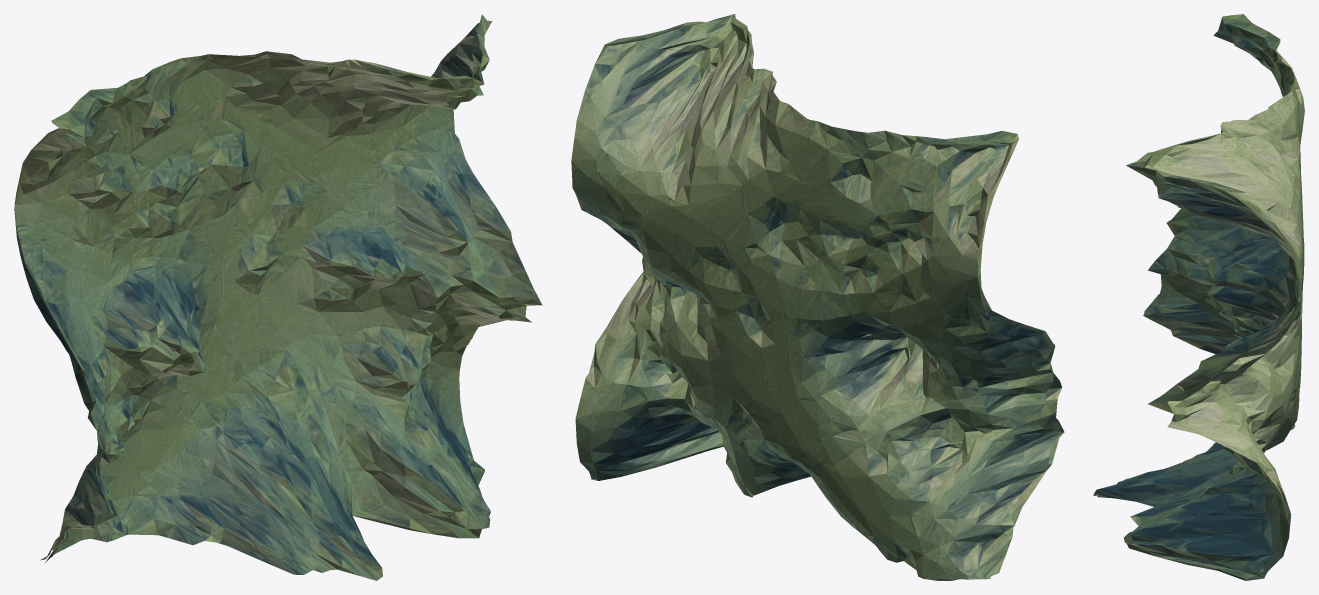
File: mountain_forest.dae
3 renders of one model, left to right at view 1: azimuth 30°, elevation 25°; view 2: azimuth 150°, elevation 25°; view 3: azimuth 270°, elevation 25°, orthographic. The views are drawn at different scales.
Parts seen in each view (by area): view 1: node; view 2: node; view 3: node.
Part boxes in pixels (x1,y1,x2,y2): node: (14,14,542,580); node: (571,14,1064,580); node: (1093,14,1304,580).
Bounding box in the file's own units: 70.71 × 70.7 × 34.85.
Materials: 1 (1 with a texture image).
